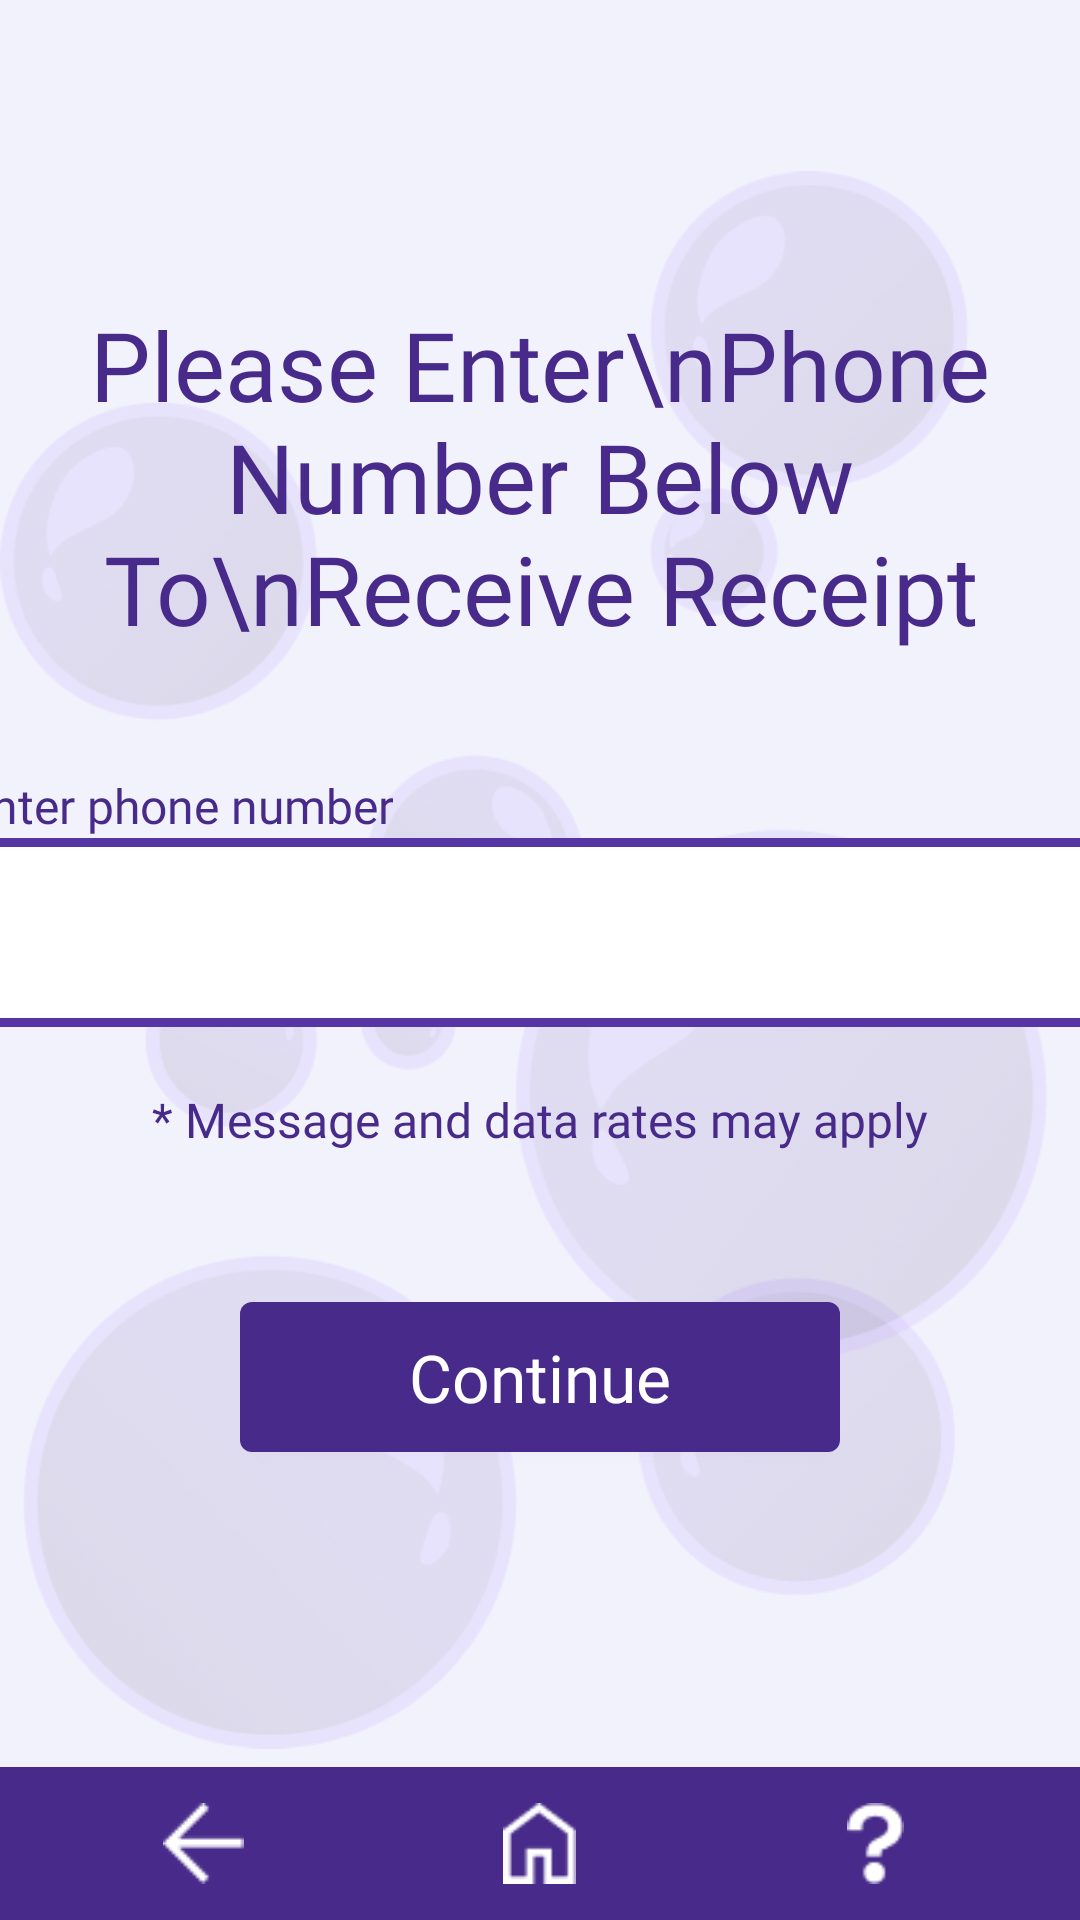

Where icons sit on this 1080 x 1920 app screen, as [x1, y1, x2, y2]:
Back Button: [163, 1803, 244, 1884]
Help Button: [847, 1803, 904, 1884]
Home Button: [503, 1803, 576, 1884]
